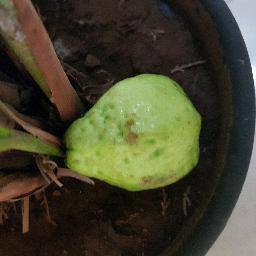Good_guava: (61, 70, 210, 202)
